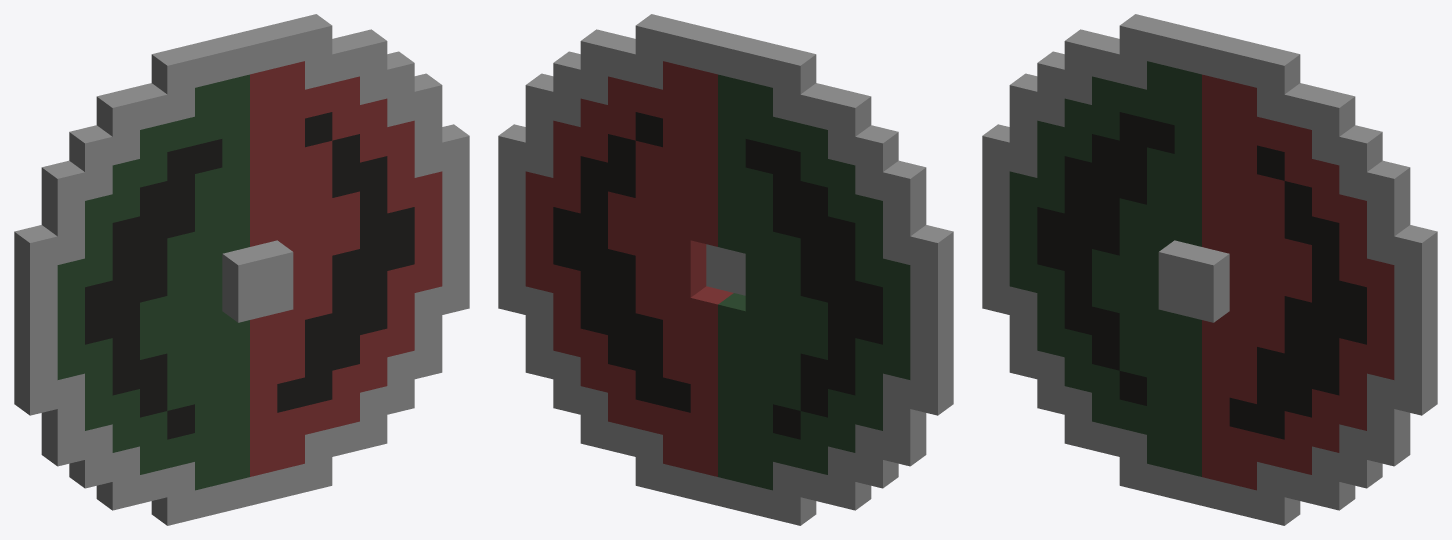
Rendered from characters_export_red-27-shield_med_3_ja_color.obj.
3 renders of one model, left to right at view 1: azimuth 30°, elevation 25°; view 2: azimuth 150°, elevation 25°; view 3: azimuth 330°, elevation 25°, orthographic.
Parts seen in each view (by area): view 1: shield_med_3_ja_color; view 2: shield_med_3_ja_color; view 3: shield_med_3_ja_color.
Boxes of the visible parts, <box> form: shield_med_3_ja_color: <box>14,14,469,525</box>; shield_med_3_ja_color: <box>498,14,953,525</box>; shield_med_3_ja_color: <box>982,14,1437,525</box>.
Bounding box in the file's own units: 1.6 × 1.6 × 0.2.
Materials: 1 (1 with a texture image).
